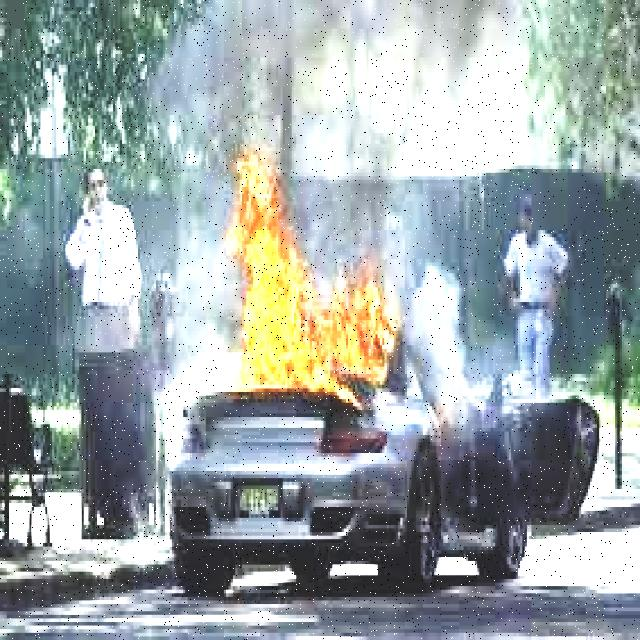api: (214, 152, 397, 400)
